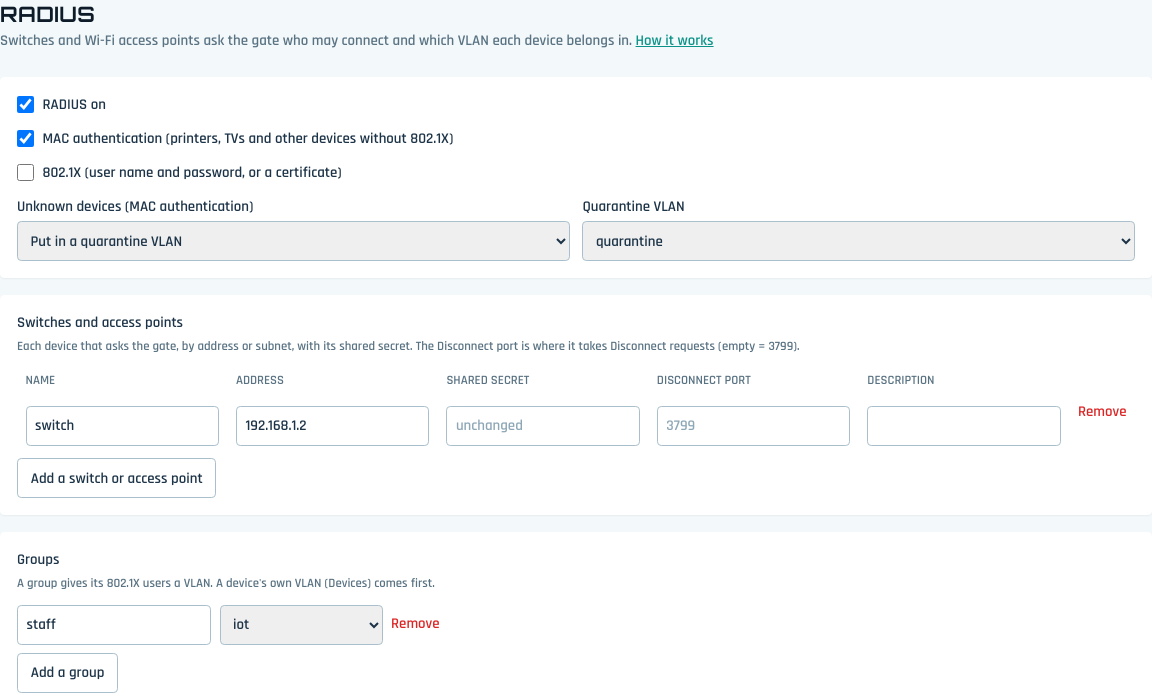
Network → RADIUS › saves the settings, keeping stored secrets and adding a user
The width and height of the screenshot is (1152, 695).
Click the checkbox labelled "802.1X (user name and password, or a certificate)".
click(26, 172)  # box [17,164,34,181]
(page scrolled)
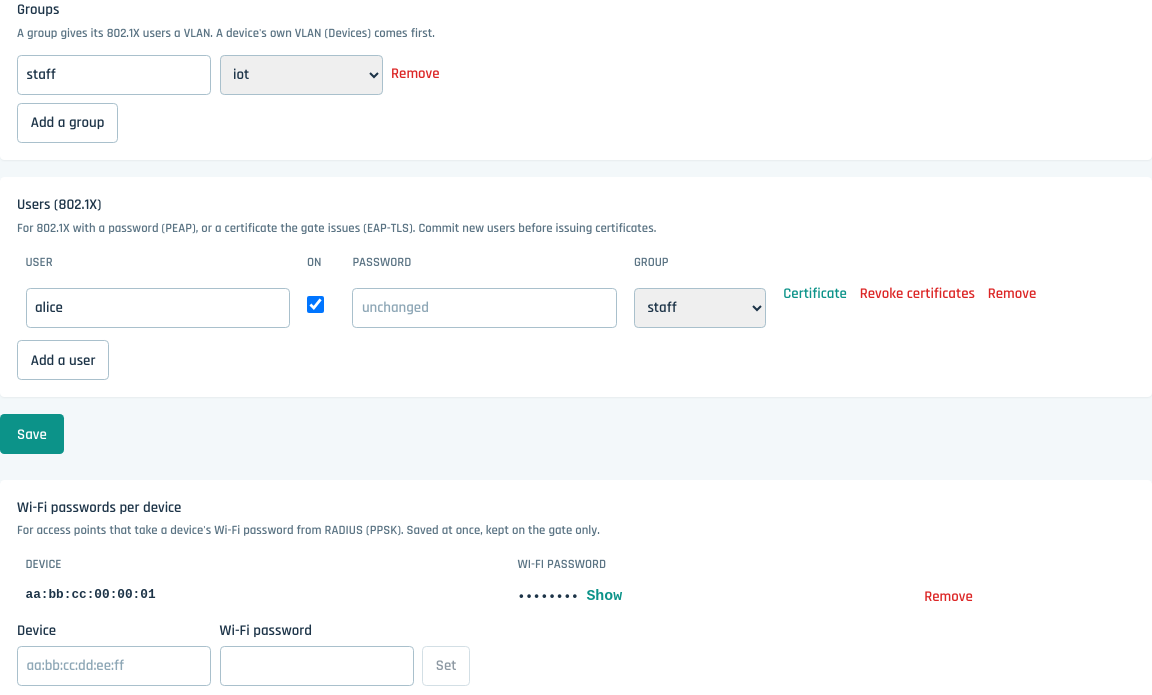
Click the button "Add a user".
click(63, 360)  # box [17,340,109,380]
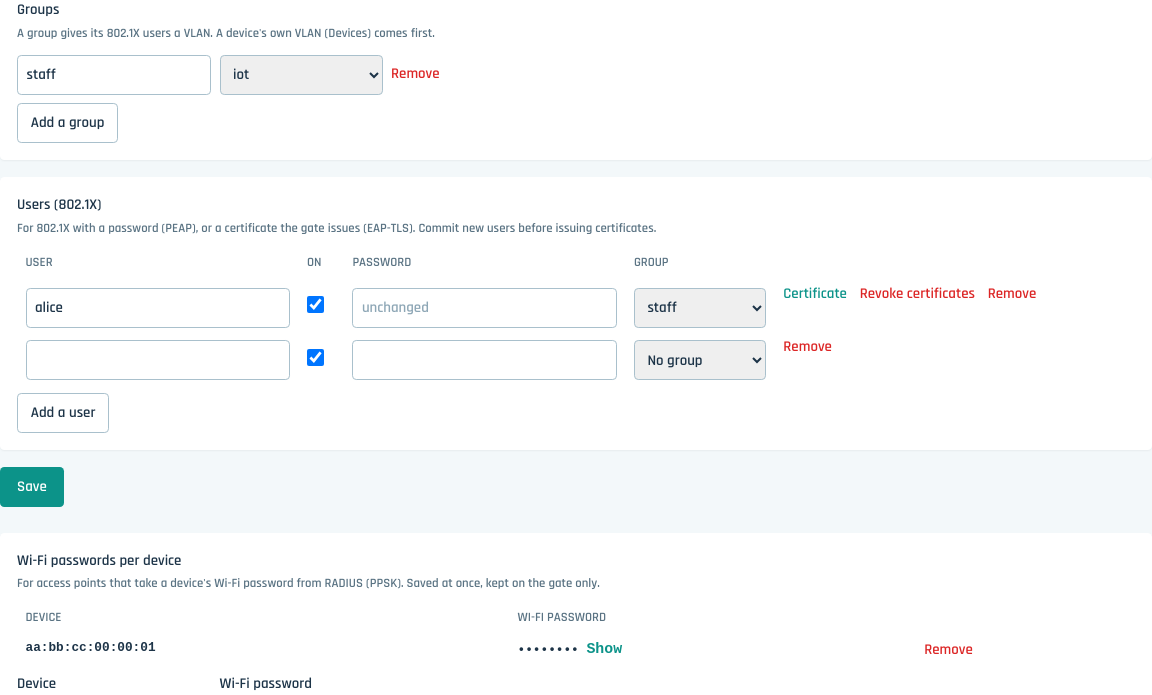
Type "bob" into the 2nd field named "User".
click(158, 360); type("bob")  # box [26,340,290,380]
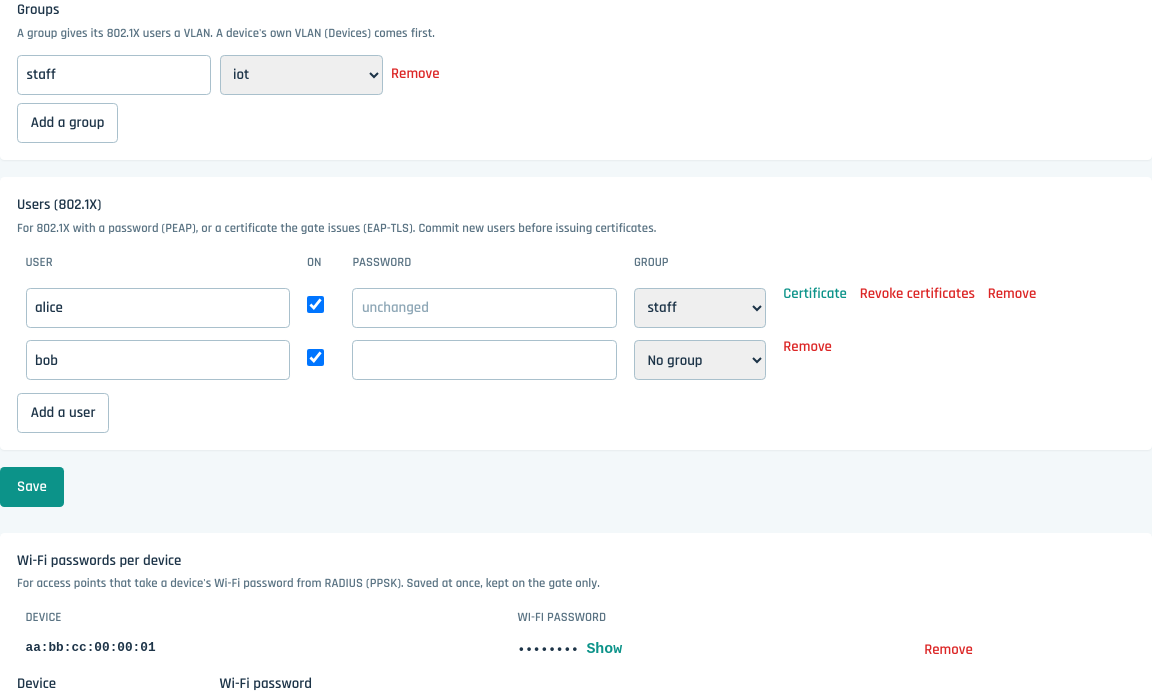
Type "bob-password" into the password field named "Password".
click(485, 360); type("bob-password")  # box [352,340,617,380]
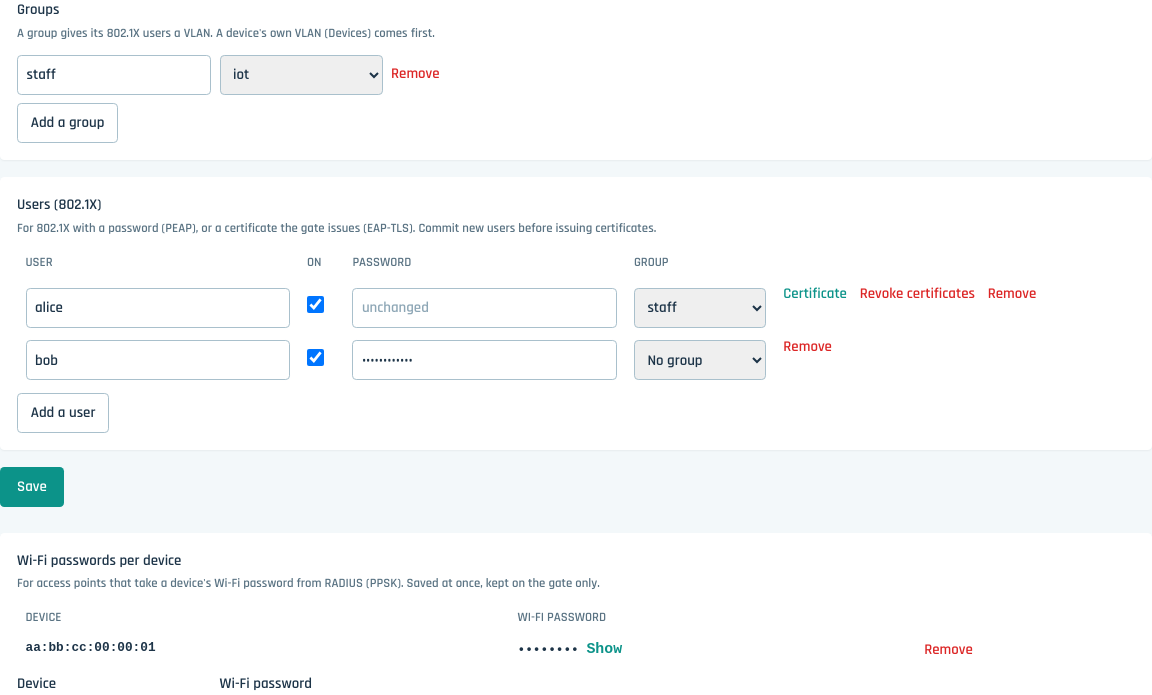
Select "staff" in the 2nd dropdown named "Group" at (700, 360), box [634,340,766,380]
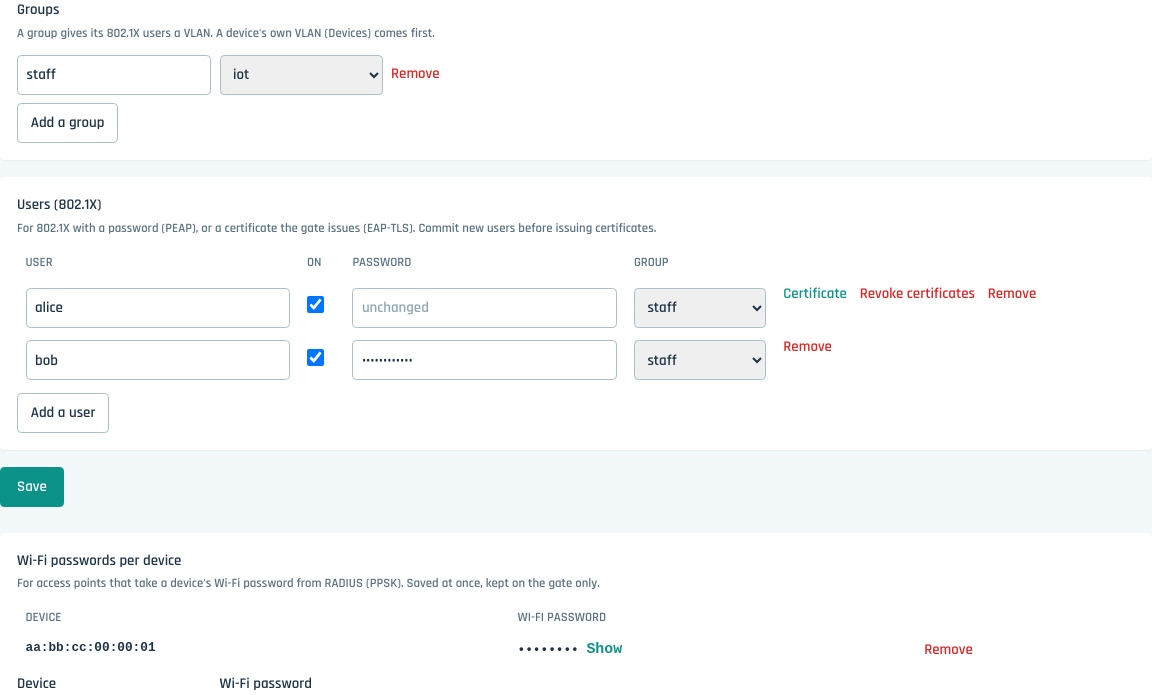
Click the button "Save".
click(32, 487)  # box [0,467,64,507]
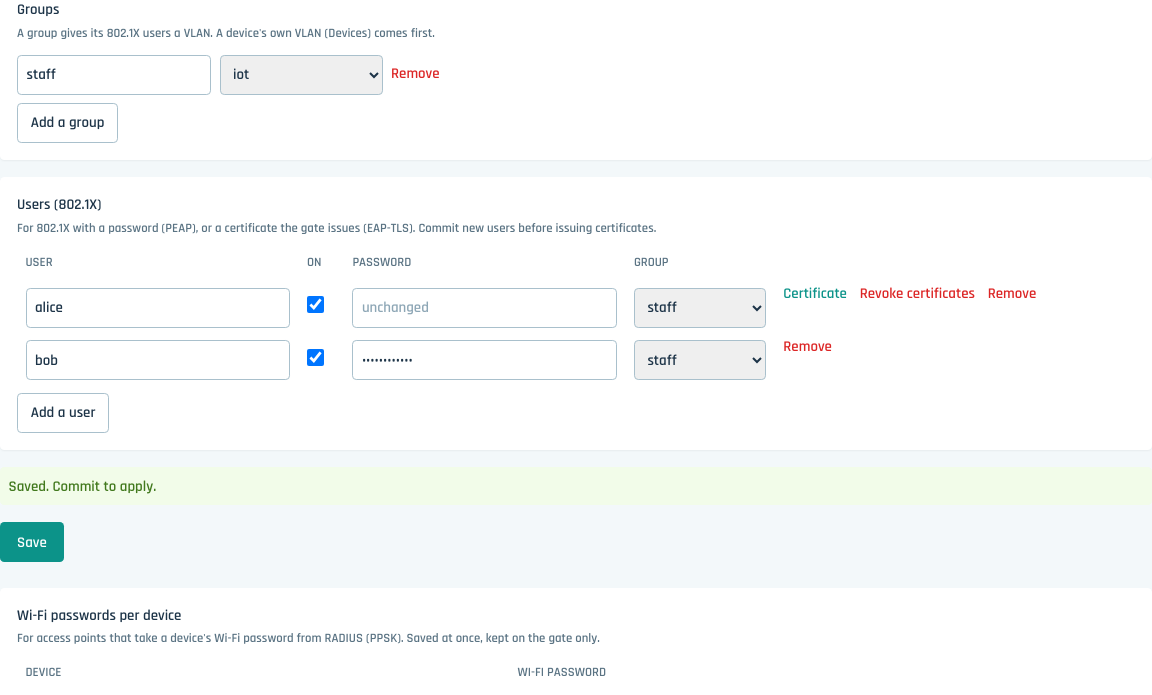
Check: the text "Saved. Commit to apply." is shown, box [0,467,1151,505]
